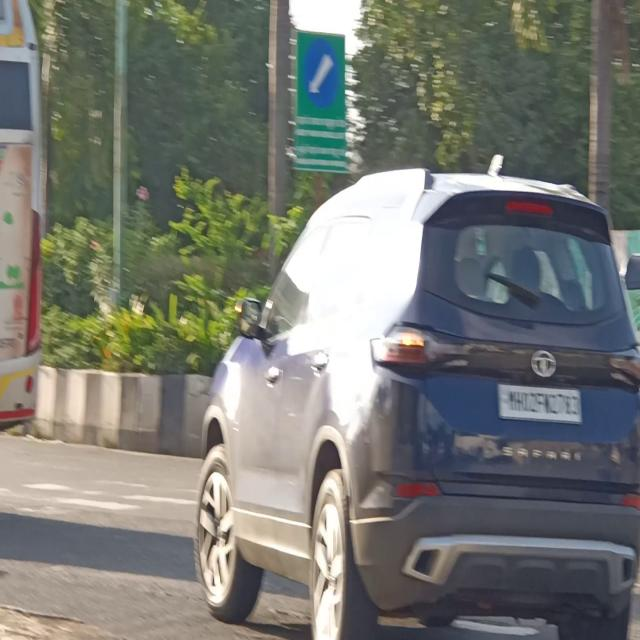Plate: (498, 380, 583, 424)
